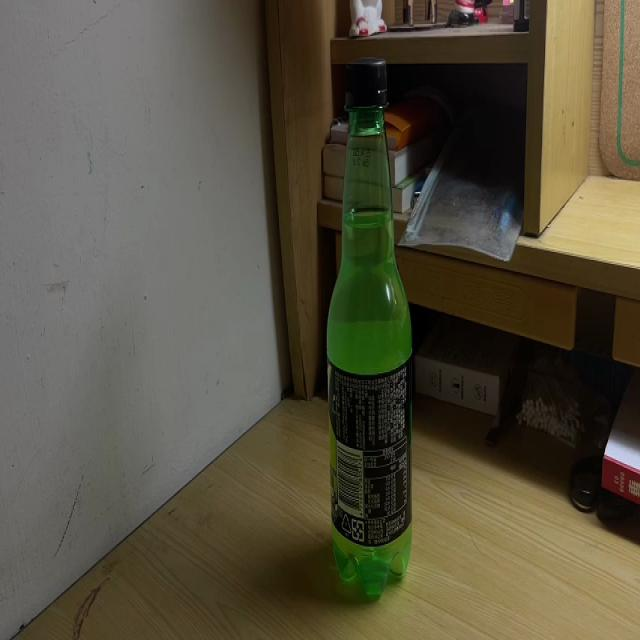Mountain-Dew: (328, 58, 414, 598)
